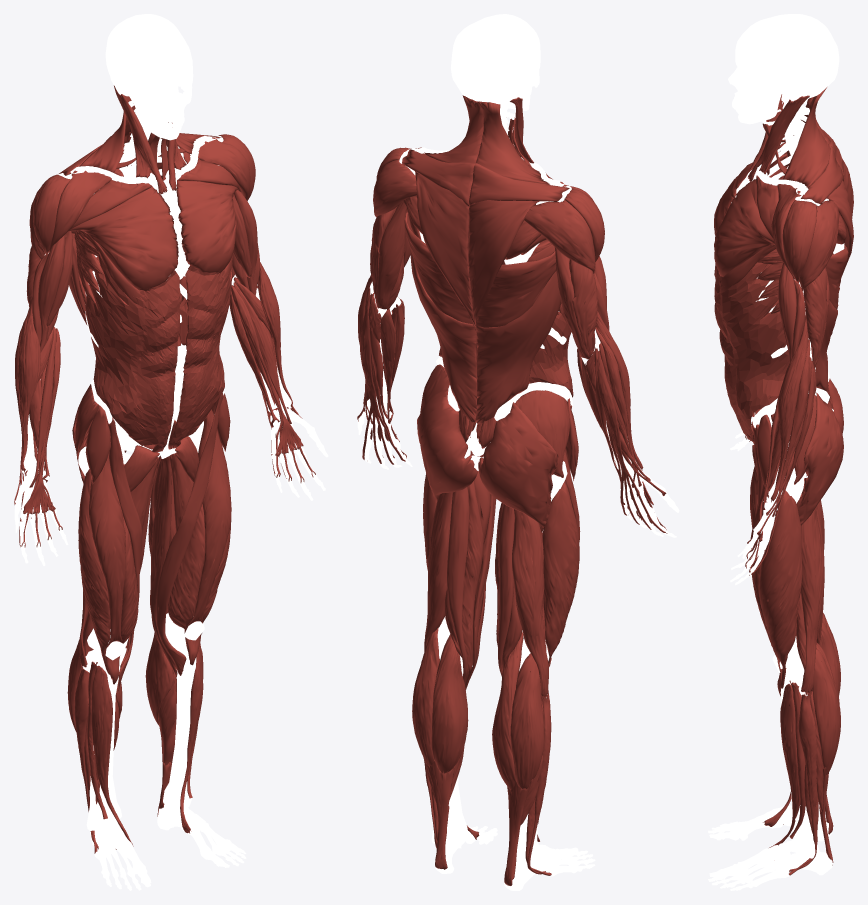
Rendered from muscles.glb.
The picture shows the model from 3 angles, left to right: view 1: azimuth 30°, elevation 25°; view 2: azimuth 150°, elevation 25°; view 3: azimuth 270°, elevation 25°; orthographic projection. The views are drawn at different scales.
Parts seen in each view (by area): view 1: squelette, Central abdominal sheet, Sternocostal head of pectoralis major muscle, Rectus femoris muscle, External oblique flank 2, Sartorius muscle, Vastus medialis muscle, Tibialis anterior muscle, Vastus lateralis muscle, Clavicular part of deltoid muscle, Brachioradialis muscle, Gracilis muscle (+26 smaller); view 2: squelette, Latissimus dorsi muscle, Gluteus maximus muscle, Descending part of trapezius muscle, Long head of biceps femoris, Medial head of gastrocnemius, Lateral head of gastrocnemius, Vastus lateralis muscle, Semitendinosus muscle, Scapular spinal part of deltoid muscle, Transverse part of trapezius muscle, Ascending part of trapezius muscle (+17 smaller); view 3: squelette, External oblique flank 1, Vastus lateralis muscle, Sternocostal head of pectoralis major muscle, Gluteus maximus muscle, Long head of biceps femoris, Lateral head of gastrocnemius, Ascending part of trapezius muscle, Brachioradialis muscle, Acromial part of deltoid muscle, Tibialis anterior muscle, Scapular spinal part of deltoid muscle (+29 smaller).
Part boxes in pixels (x1,y1,x2,y2): squelette: (14, 14, 328, 890); Central abdominal sheet: (129, 266, 221, 447); Sternocostal head of pectoralis major muscle: (68, 180, 237, 290); Rectus femoris muscle: (89, 409, 231, 684); External oblique flank 2: (85, 256, 145, 435); Sartorius muscle: (107, 393, 223, 690); Vastus medialis muscle: (121, 504, 205, 651); Tibialis anterior muscle: (91, 642, 203, 846); Vastus lateralis muscle: (78, 469, 231, 674); Clavicular part of deltoid muscle: (49, 137, 250, 252); Brachioradialis muscle: (18, 262, 292, 472); Gracilis muscle: (118, 456, 177, 690); squelette: (357, 14, 679, 890); Latissimus dorsi muscle: (404, 212, 561, 424); Gluteus maximus muscle: (417, 387, 558, 527); Descending part of trapezius muscle: (415, 171, 539, 326); Long head of biceps femoris: (424, 492, 548, 696); Medial head of gastrocnemius: (431, 632, 523, 789); Lateral head of gastrocnemius: (412, 623, 544, 789); Vastus lateralis muscle: (423, 473, 579, 664); Semitendinosus muscle: (447, 487, 514, 684); Scapular spinal part of deltoid muscle: (373, 159, 595, 273); Transverse part of trapezius muscle: (402, 149, 569, 207); Ascending part of trapezius muscle: (424, 95, 549, 183); squelette: (708, 14, 844, 890); External oblique flank 1: (720, 262, 789, 434); Vastus lateralis muscle: (759, 490, 802, 688); Sternocostal head of pectoralis major muscle: (714, 154, 787, 276); Gluteus maximus muscle: (796, 378, 843, 525); Long head of biceps femoris: (800, 505, 824, 694); Lateral head of gastrocnemius: (812, 613, 840, 775); Ascending part of trapezius muscle: (783, 87, 830, 187); Brachioradialis muscle: (771, 317, 808, 502); Acromial part of deltoid muscle: (782, 200, 817, 282); Tibialis anterior muscle: (763, 684, 800, 847); Scapular spinal part of deltoid muscle: (799, 129, 839, 291).
Size of the model in its own units: 0.6695 by 1.7 by 0.267.
